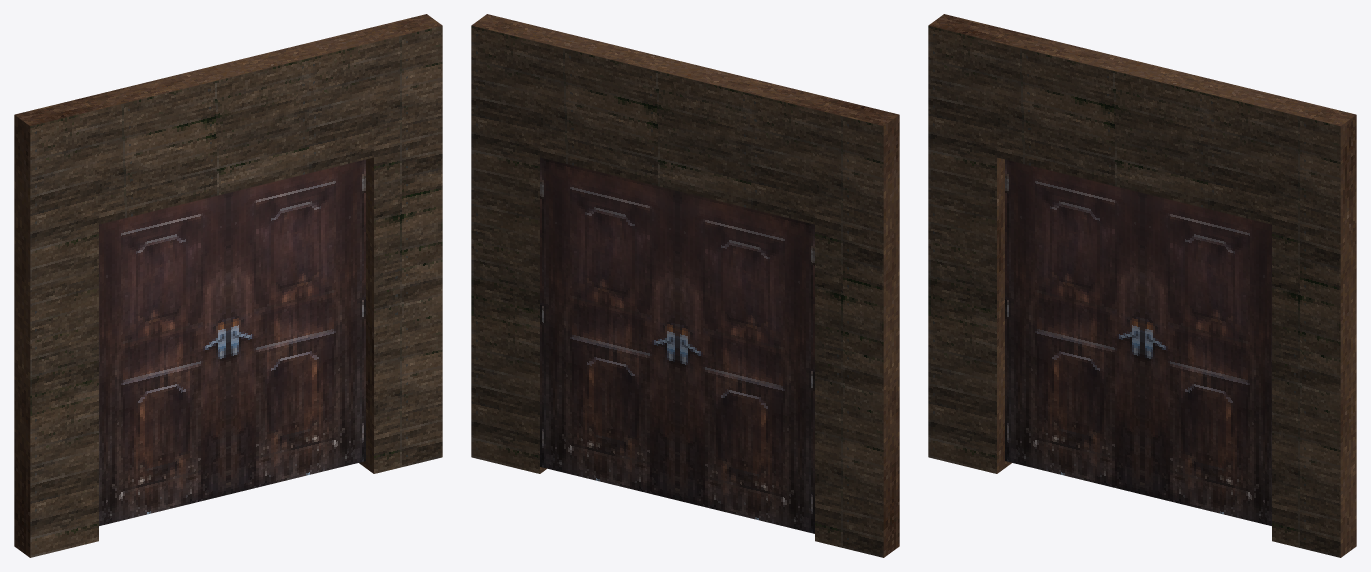
Rendered from door_double_05.glb.
3 renders of one model, left to right at view 1: azimuth 30°, elevation 25°; view 2: azimuth 150°, elevation 25°; view 3: azimuth 330°, elevation 25°, orthographic.
Visible parts, largest first — view 1: door_double_052, door_05_003, door_05_001; view 2: door_double_052, door_05_001, door_05_003; view 3: door_double_052, door_05_001, door_05_003.
Part boxes in pixels (bbox=[...]): door_double_052: bbox=[14, 14, 442, 557]; door_05_003: bbox=[228, 159, 365, 494]; door_05_001: bbox=[99, 193, 228, 525]; door_double_052: bbox=[471, 14, 899, 557]; door_05_001: bbox=[677, 191, 814, 533]; door_05_003: bbox=[540, 157, 677, 500]; door_double_052: bbox=[928, 14, 1356, 557]; door_05_001: bbox=[1005, 159, 1142, 494]; door_05_003: bbox=[1142, 193, 1271, 525].
Bounding box in the file's own units: 3 × 3 × 0.2.
Materials: 3 (3 with a texture image).
